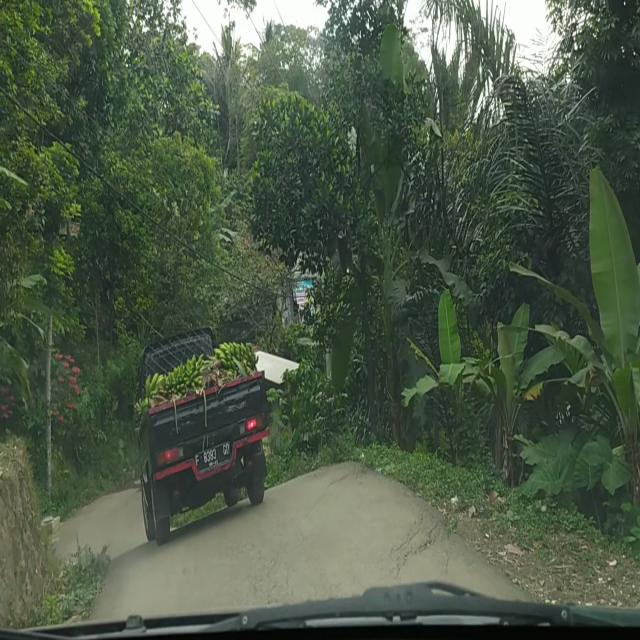Drain Hole: (386, 500, 446, 572)
